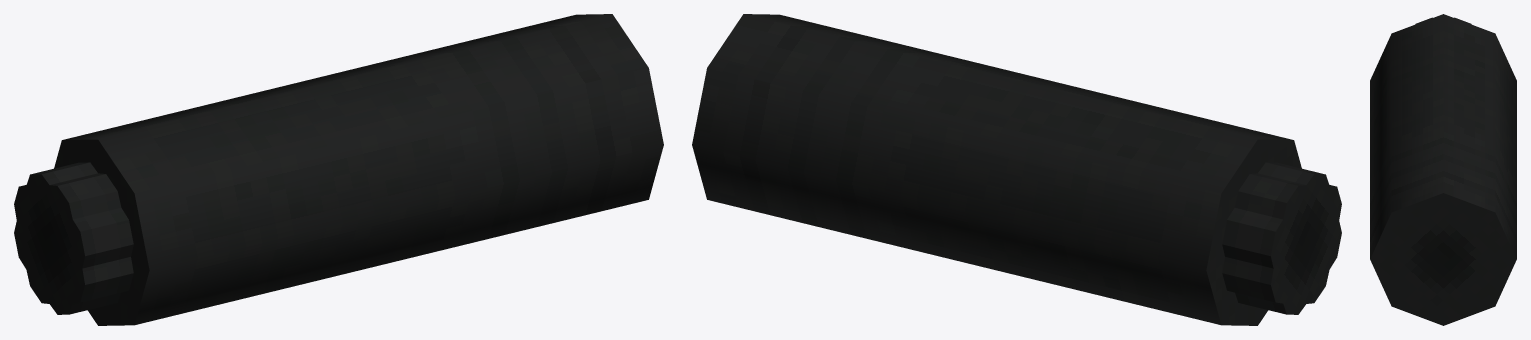
File: suppressor_mp_2.glb
3 views of the same model, side by side, from view 1: azimuth 30°, elevation 25°; view 2: azimuth 150°, elevation 25°; view 3: azimuth 270°, elevation 25° (orthographic). The views are drawn at different scales.
Visible parts, largest first — view 1: suppressor_mp_2; view 2: suppressor_mp_2; view 3: suppressor_mp_2.
Boxes of the visible parts, bbox=[...] form: suppressor_mp_2: bbox=[14, 14, 663, 325]; suppressor_mp_2: bbox=[692, 14, 1341, 325]; suppressor_mp_2: bbox=[1370, 14, 1516, 325].
Size of the model in its own units: 0.139 by 0.044 by 0.044.
1 material, 1 textured.
